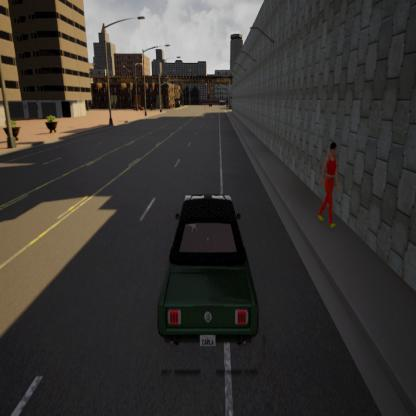Cars: (140, 176, 277, 367)
Pedestrian: (316, 135, 347, 246)
